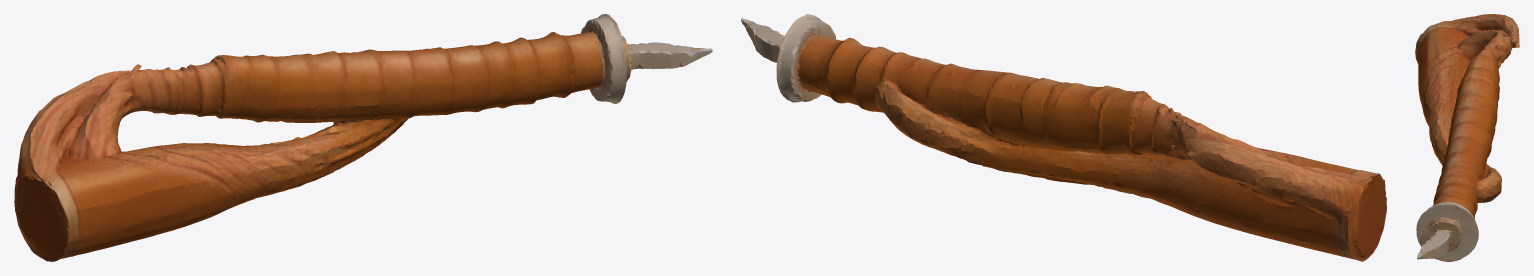
Rendered from whip.glb.
3 renders of one model, left to right at view 1: azimuth 30°, elevation 25°; view 2: azimuth 150°, elevation 25°; view 3: azimuth 270°, elevation 25°, orthographic. The views are drawn at different scales.
Parts seen in each view (by area): view 1: whip; view 2: whip; view 3: whip.
Boxes of the visible parts, left/top/right/bottom form: whip: left=14, top=14, right=712, bottom=261; whip: left=741, top=14, right=1386, bottom=261; whip: left=1415, top=14, right=1519, bottom=261.
Size of the model in its own units: 1.89 by 0.3643 by 0.3651.
Materials: 1 (1 with a texture image).
